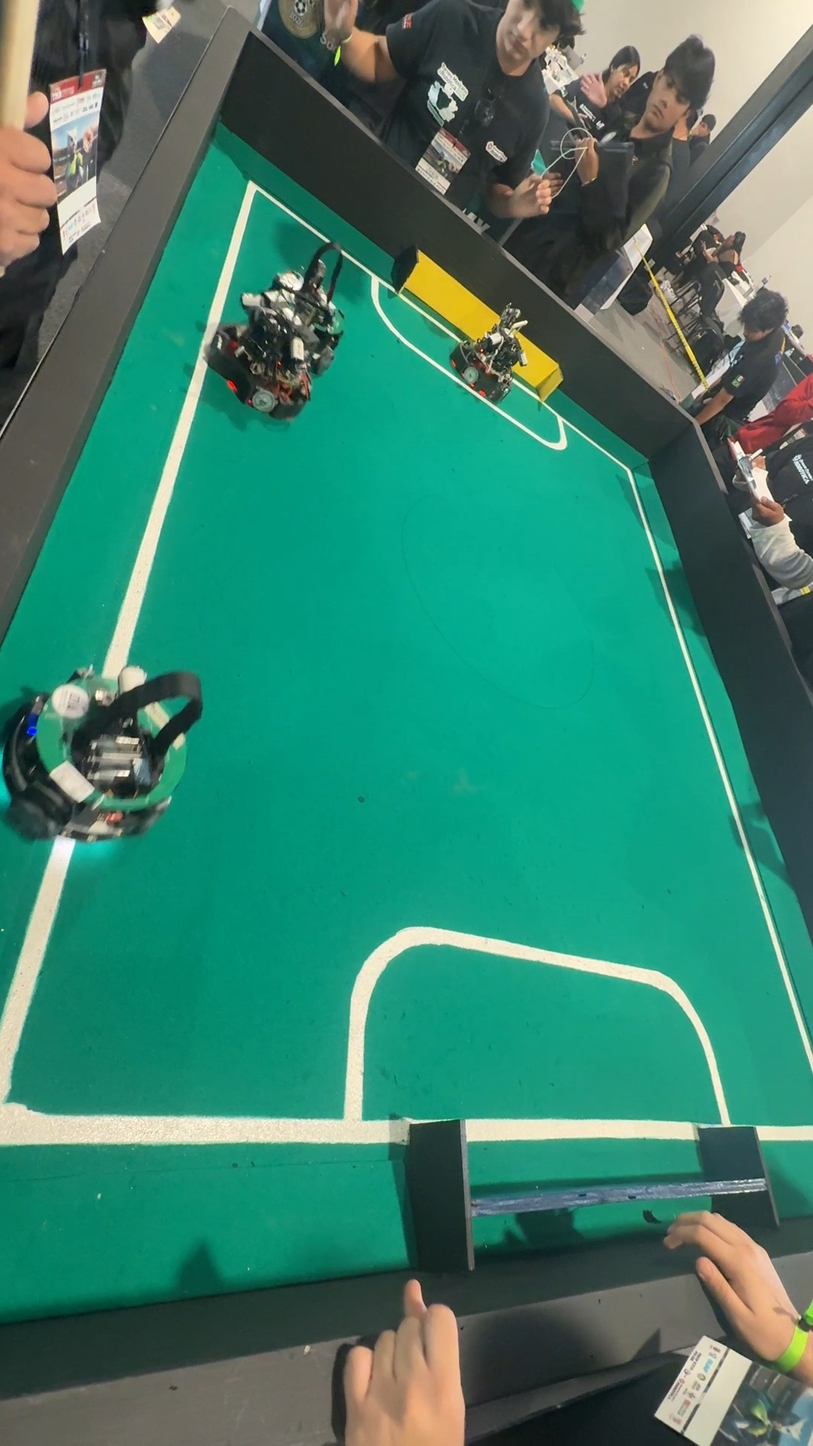Robot: (17, 632, 208, 864), (215, 301, 332, 411), (258, 235, 365, 346), (452, 294, 529, 403)
